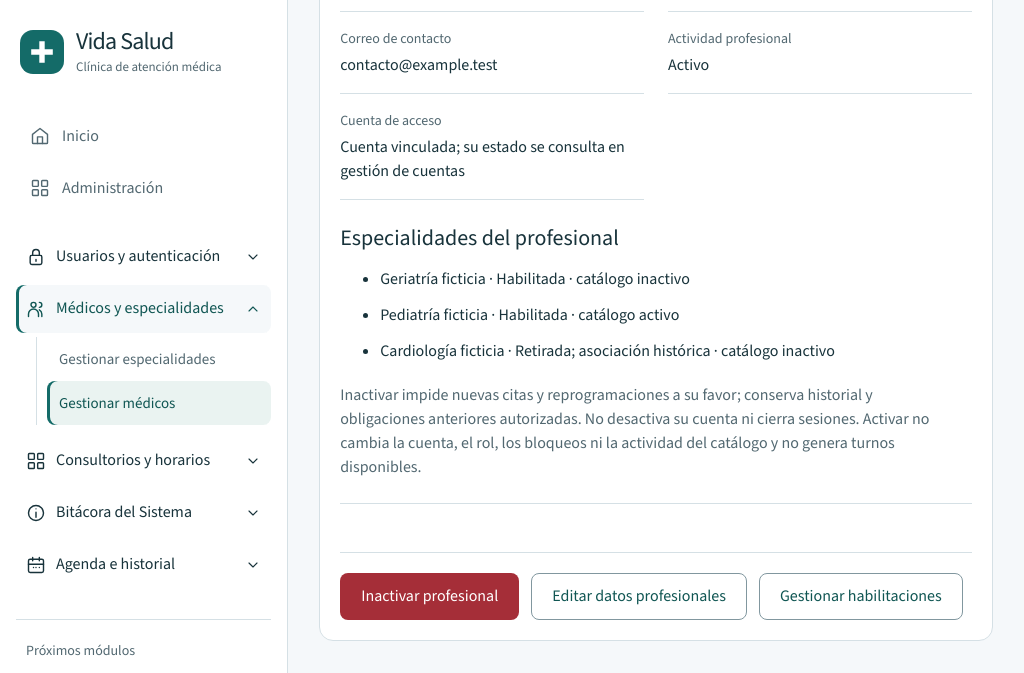
Test: actividad e historial de habilitaciones CU-10 fase 4 › actividad desde true exige confirmar y reconsulta sin tocar cuenta ni asociaciones
(page scrolled)
Click the button "Inactivar profesional": x=430, y=597 [340, 573, 519, 620]
(page scrolled)
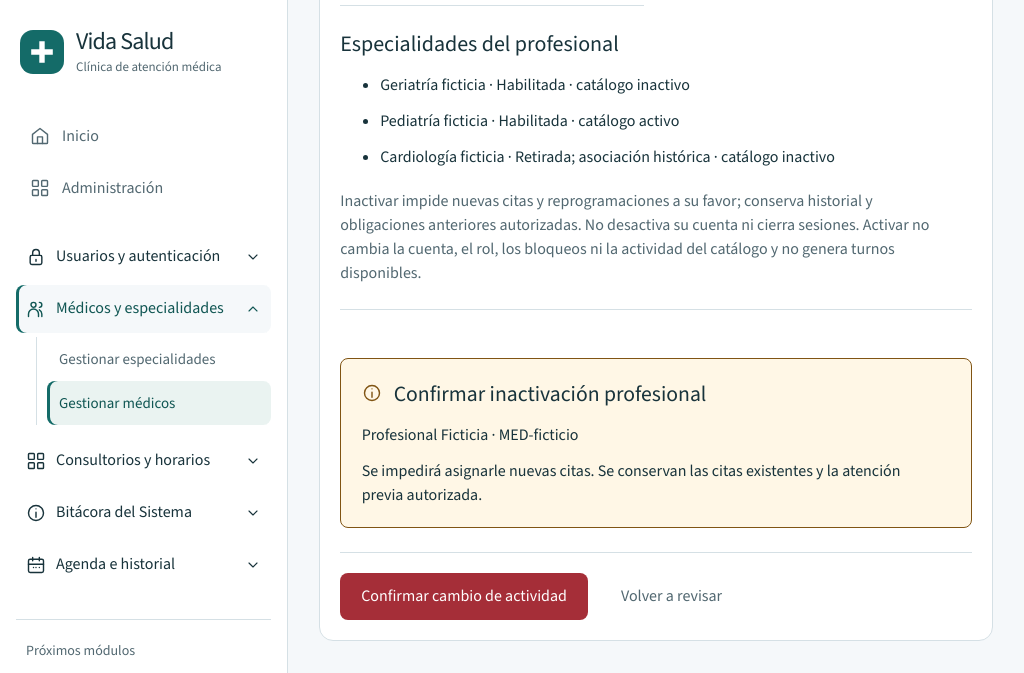
Click the button "Volver a revisar": x=672, y=597 [600, 574, 743, 620]
(page scrolled)
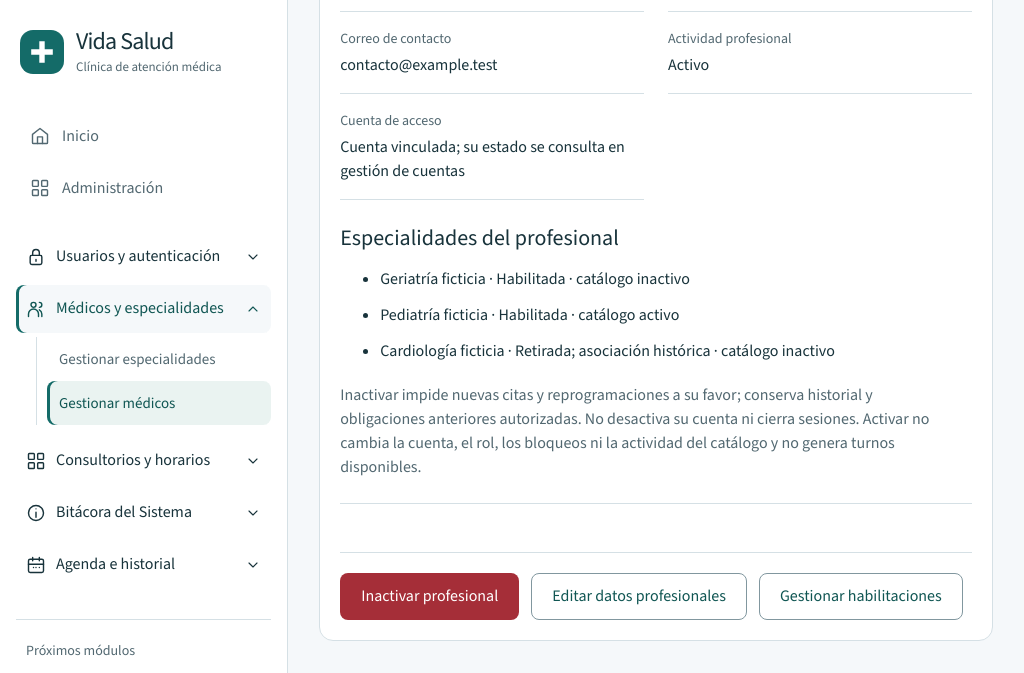
Click the button "Inactivar profesional": x=430, y=597 [340, 573, 519, 620]
(page scrolled)
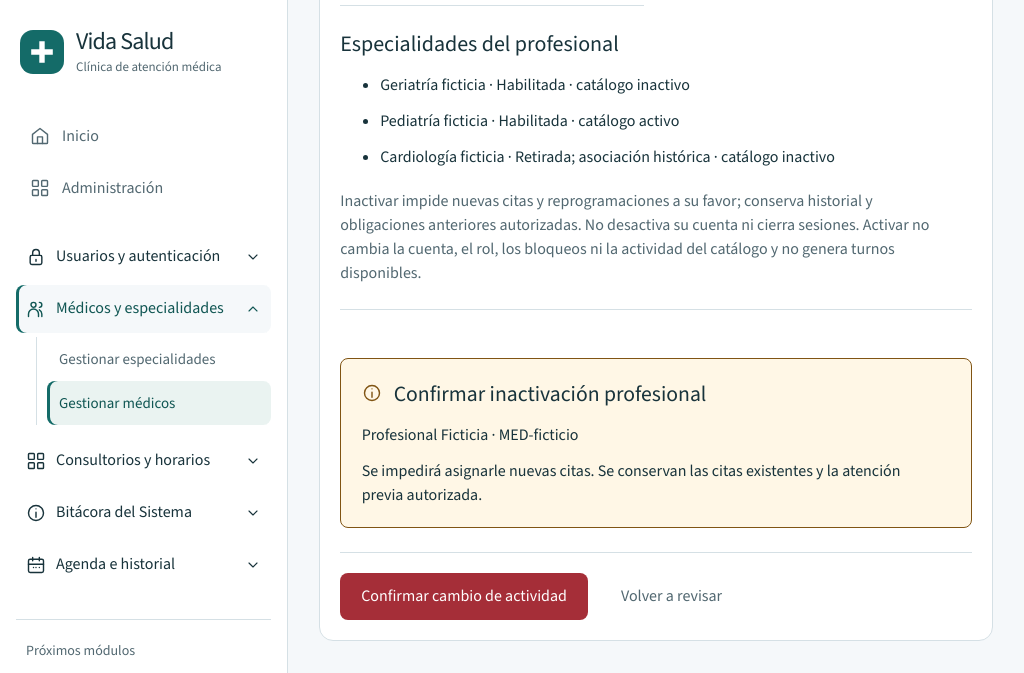
Click the button "Confirmar cambio de actividad": x=464, y=597 [340, 574, 588, 620]
(page scrolled)
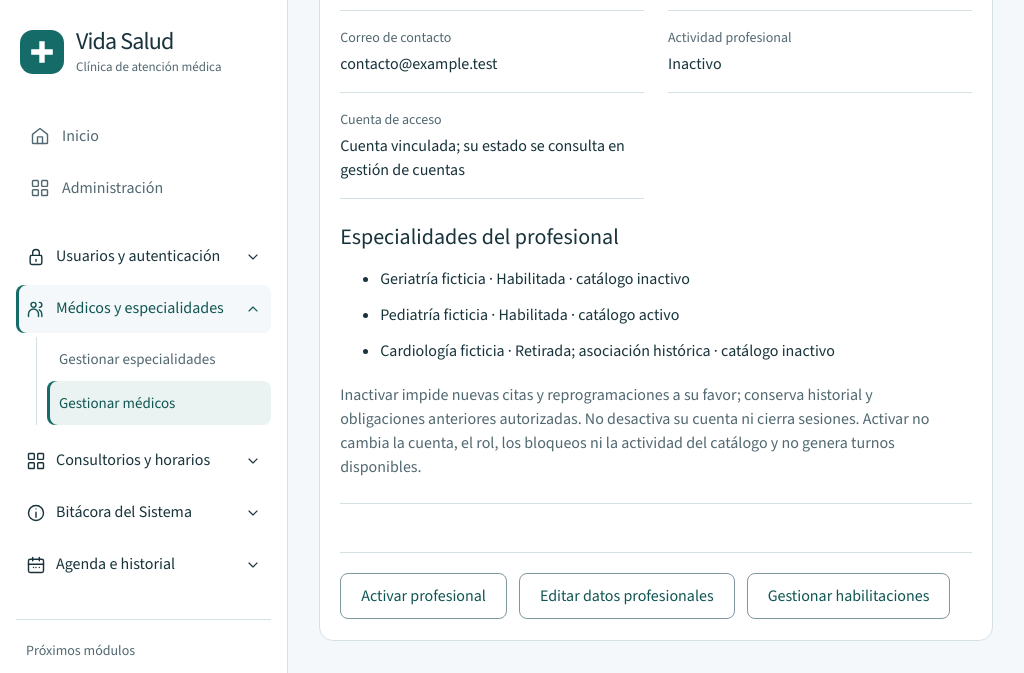
Result: the button "Activar profesional" is shown at [340, 573, 507, 619]
